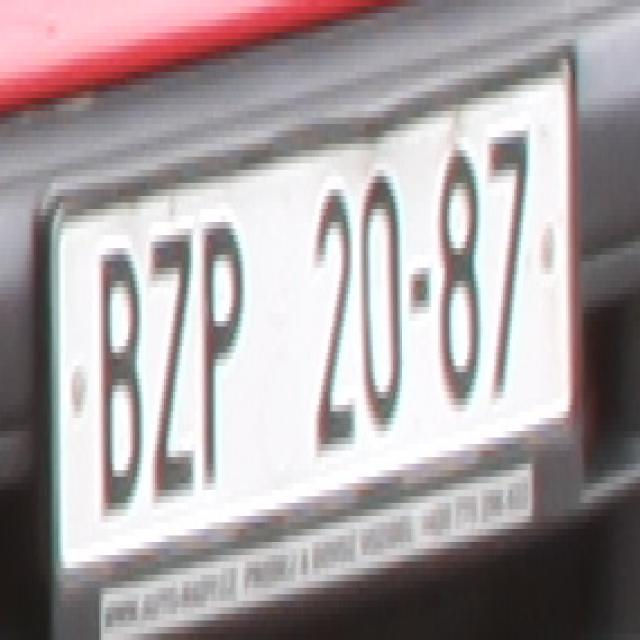0: (362, 157, 404, 444)
2: (312, 182, 355, 450)
7: (485, 111, 530, 405)
8: (436, 124, 480, 405)
B: (94, 235, 144, 523)
P: (202, 202, 245, 503)
Z: (148, 215, 193, 516)
